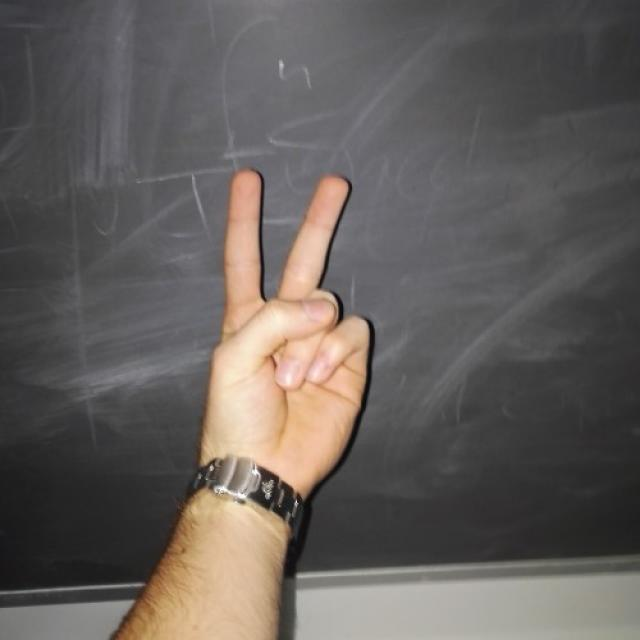scissors: (204, 164, 372, 460)
